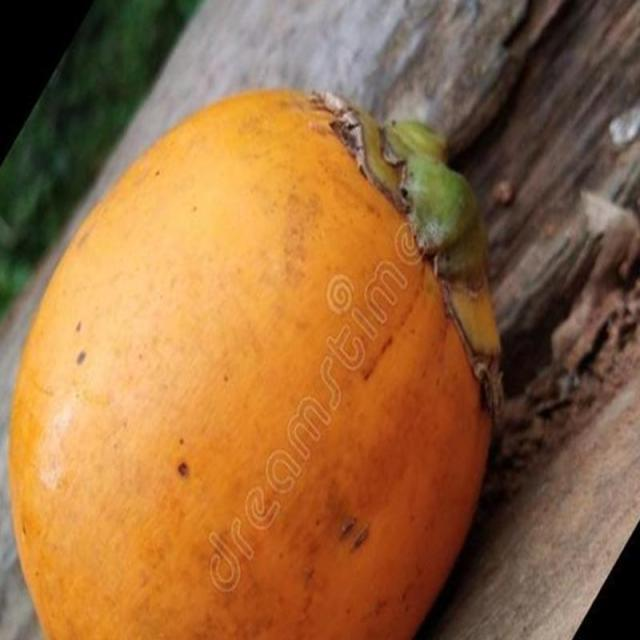good: (5, 89, 501, 639)
